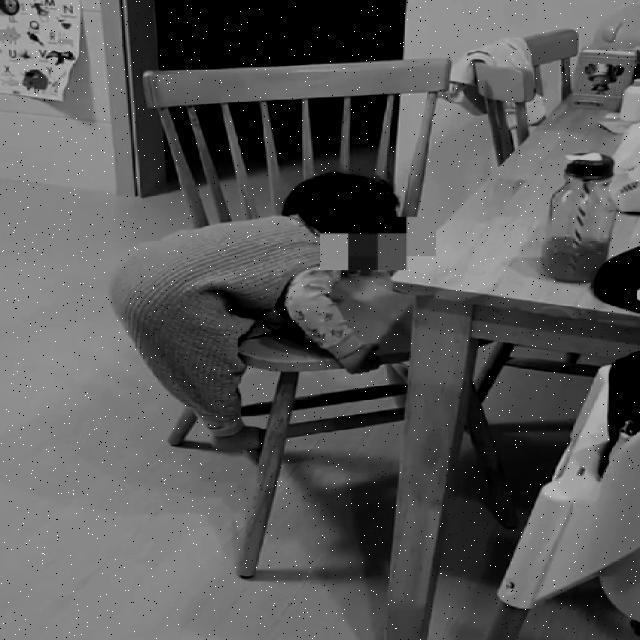child: (100, 166, 401, 462)
